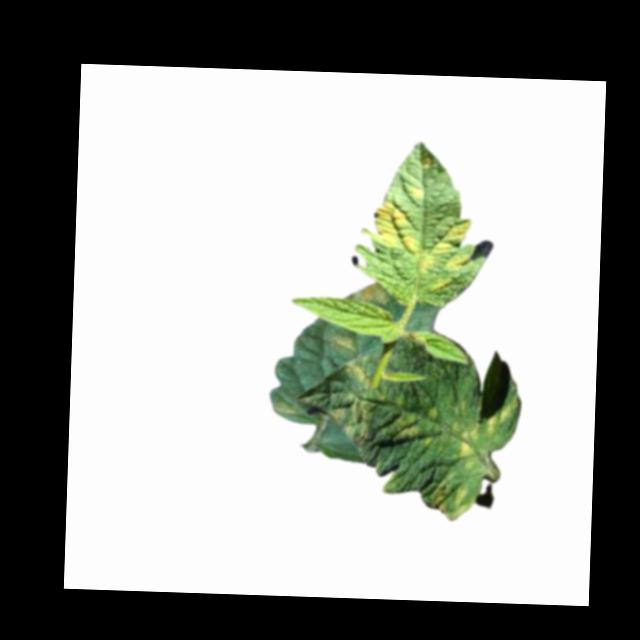Leaf_Mold: (419, 218, 475, 275), (371, 199, 418, 253), (428, 472, 473, 521), (324, 399, 374, 442), (347, 278, 393, 308), (455, 423, 484, 456), (392, 411, 422, 441), (327, 330, 360, 354), (343, 361, 372, 388), (270, 401, 297, 419), (408, 181, 426, 201), (429, 277, 449, 294), (486, 411, 499, 434)
